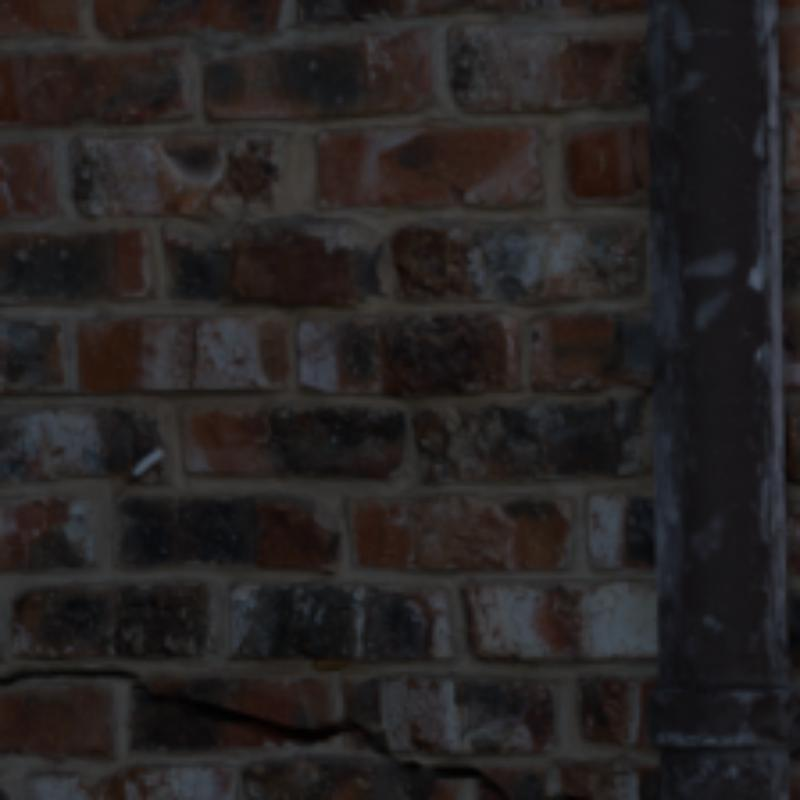crack: (0, 668, 507, 796), (189, 318, 204, 386), (632, 125, 643, 189)
